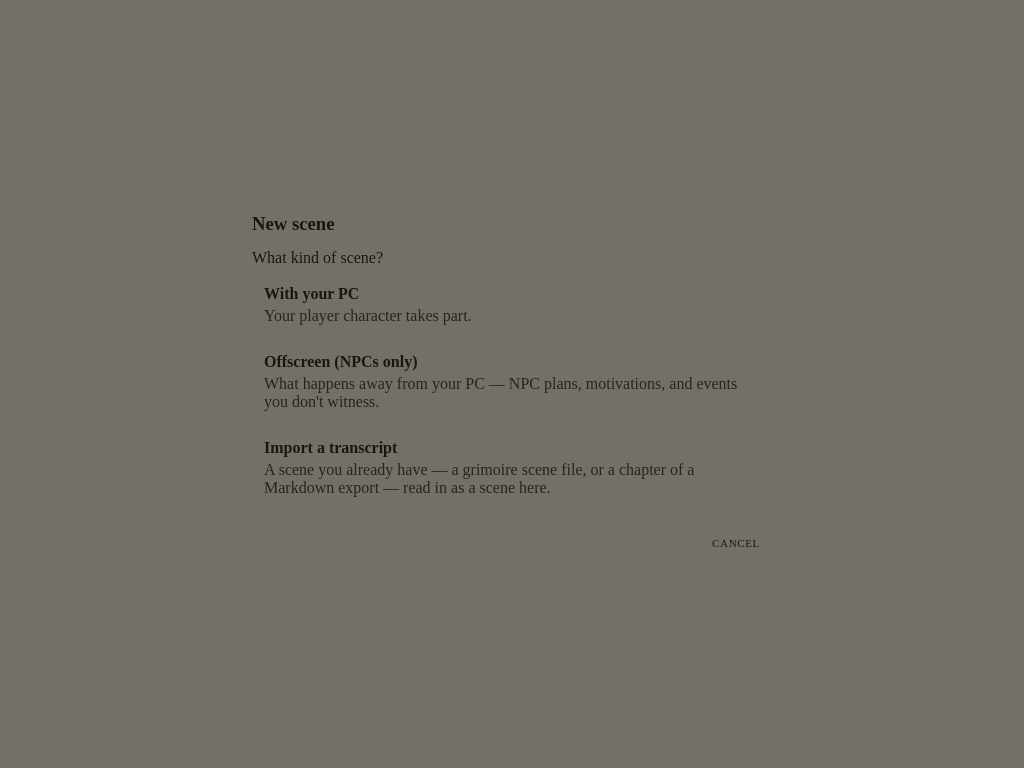
Test: the picker steps back to the mode cards, as the panes after it do
Click the text "With your PC".
click(312, 294)  # box [264,285,359,303]
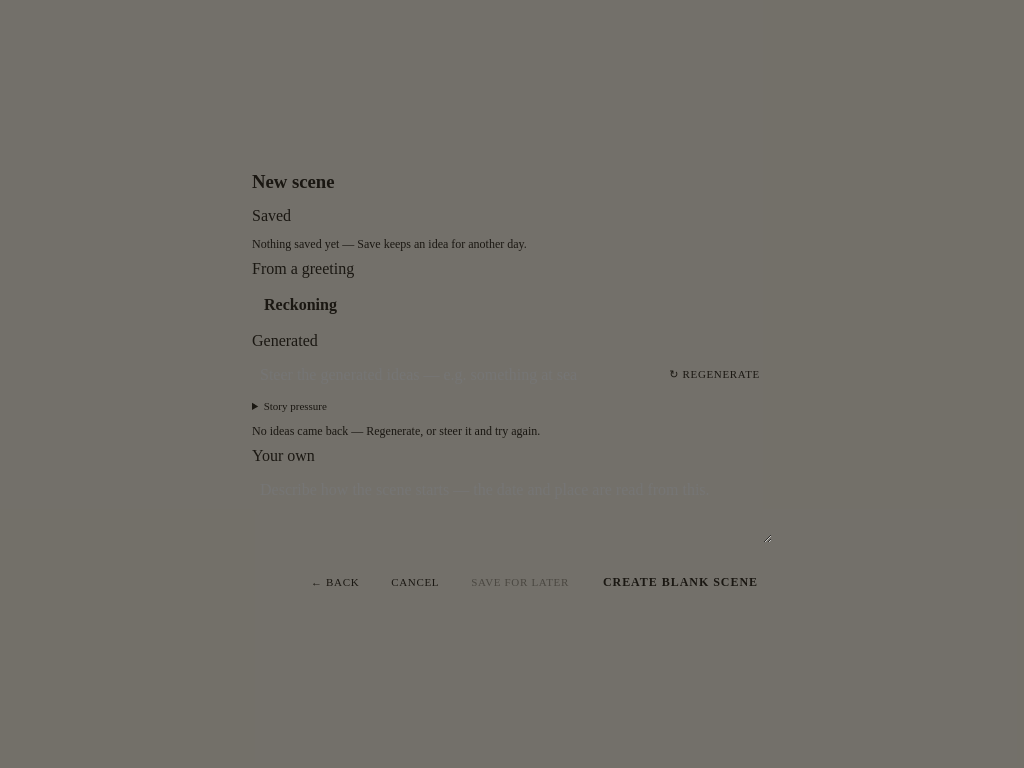
Click the button "← Back".
click(335, 582)  # box [299,566,371,598]
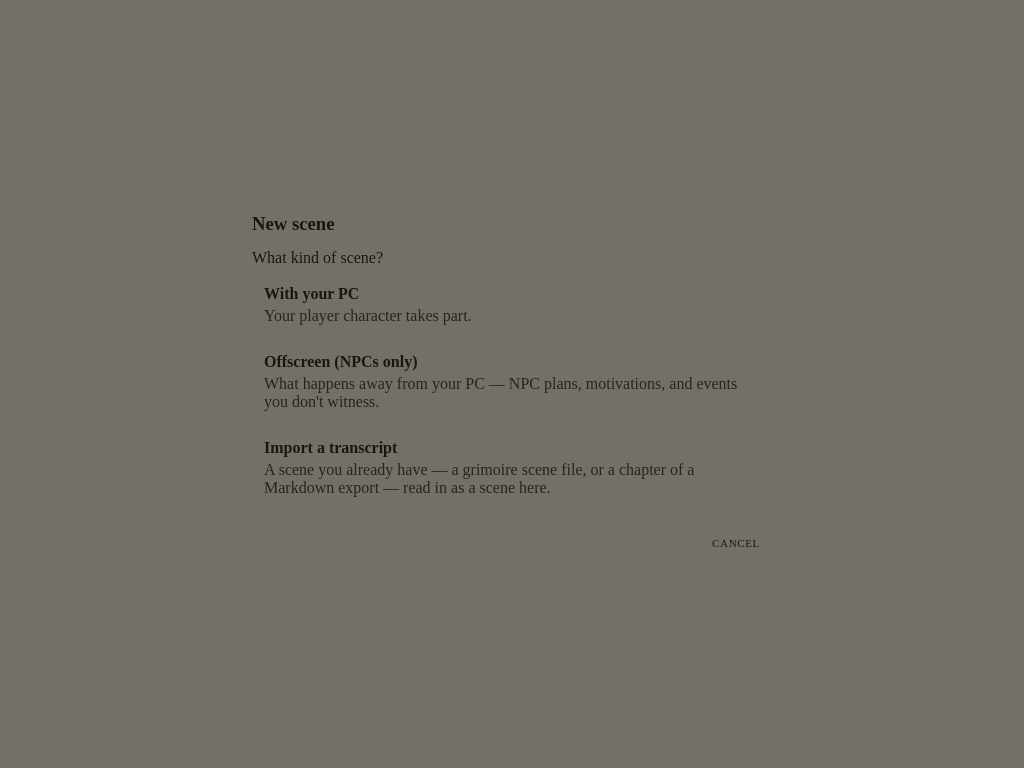
Expected: the text "Offscreen (NPCs only)" is shown, [264,353,418,371]
Expected: the button "blank scene" is gone
